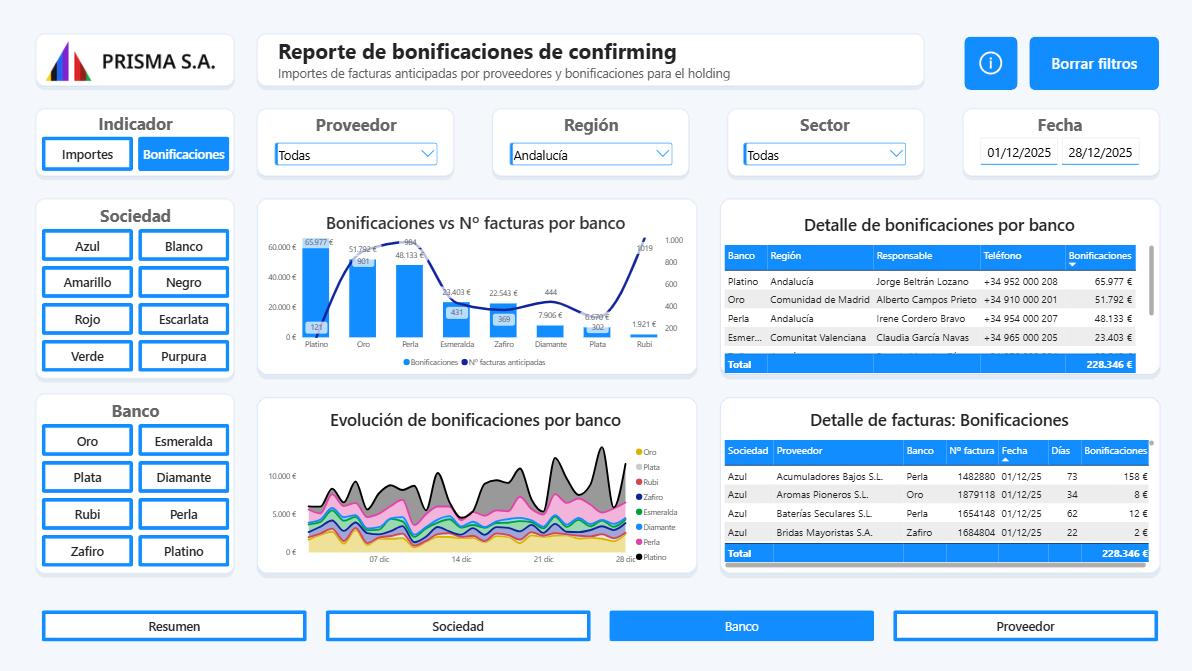

The page's visual inventory and layout, read from the dashboard file:
{"tool":"powerbi","page":{"name":"Banco","canvas":[1920,1080],"ordinal":2},"visuals":[{"type":"tableEx","fields":{"Values":["Banco.Nombre_Corto_Banco","CCAA_Banco.Comunidad Autónoma","bancos.Nombre_Contacto_Banco","bancos.Telefono_Contacto","Registro_Bonificaciones.Sel_Importes"]},"box":[1154,327,704,270],"z":0},{"type":"stackedAreaChart","fields":{"Category":["registro_bonificaciones.F. Anticipo"],"Series":["Banco.Nombre_Corto_Banco"],"Y":["Registro_Bonificaciones.Sel_Importes"]},"box":[412,640,704,270],"z":1000},{"type":"lineStackedColumnComboChart","fields":{"Category":["Banco.Nombre_Corto_Banco"],"Y":["Registro_Bonificaciones.Sel_Importes"],"Y2":["CountNonNull(registro_bonificaciones.Nº Factura)"]},"box":[412,324,704,270],"z":2000},{"type":"tableEx","fields":{"Values":["Sociedad.Nombre_Corto_Sociedad","proveedores.Nombre_Proveedor","Banco.Nombre_Corto_Banco","Count(registro_bonificaciones.Nº Factura)","registro_bonificaciones.F. Anticipo","Sum(registro_bonificaciones.Días)","Registro_Bonificaciones.Sel_Importes"]},"box":[1154,640,704,270],"z":3000},{"type":"advancedSlicerVisual","title":"Sociedad","fields":{"Values":["Sociedad.Nombre_Corto_Sociedad"]},"box":[70.5,328,300,270],"z":4000},{"type":"pageNavigator","box":[70,978,1786,50],"z":5000},{"type":"advancedSlicerVisual","title":"Banco","fields":{"Values":["Banco.Nombre_Corto_Banco"]},"box":[70.5,640,300,270],"z":6000},{"type":"image","box":[60.5,60,320,80],"z":7000},{"type":"shape","title":"Reporte de bonificaciones de confirming","box":[448,60,1030,80],"z":8000},{"type":"advancedSlicerVisual","title":"Indicador","fields":{"Values":["Selector.Selector"]},"box":[70.5,180,300,96],"z":9000},{"type":"slicer","title":"Proveedor","fields":{"Values":["proveedores.Nombre_Proveedor"]},"box":[438,182,270,100],"z":10000},{"type":"slicer","title":"Región","fields":{"Values":["CCAA_Proveedor.Comunidad Autónoma"]},"box":[814,182,270,100],"z":11000},{"type":"slicer","title":"Fecha","fields":{"Values":["registro_bonificaciones.F. Anticipo"]},"box":[1564,182,270,100],"z":12000},{"type":"slicer","title":"Sector","fields":{"Values":["Proveedor.Sector"]},"box":[1188,182,270,100],"z":13000},{"type":"shape","box":[1572.1,250.7,123.6,29.3],"z":14000},{"type":"shape","box":[1702.1,250.7,123.6,29.3],"z":15000},{"type":"actionButton","box":[1650,60,208,86],"z":16000},{"type":"actionButton","box":[1545.6,60,85.6,85.6],"z":17000}]}

Visuals, with their boxes in screenshot pixels (x1, y1, x2, y2), scaled from the page's 1920x1080 canvas onto the 1192x671 screenshot:
tableEx - Banco.Nombre_Corto_Banco x CCAA_Banco.Comunidad Autónoma: <region>716, 203, 1154, 371</region>
stackedAreaChart - registro_bonificaciones.F. Anticipo x Banco.Nombre_Corto_Banco: <region>256, 398, 693, 565</region>
lineStackedColumnComboChart - Banco.Nombre_Corto_Banco x Registro_Bonificaciones.Sel_Importes: <region>256, 201, 693, 369</region>
tableEx - Sociedad.Nombre_Corto_Sociedad x proveedores.Nombre_Proveedor: <region>716, 398, 1154, 565</region>
"Sociedad" advancedSlicerVisual: <region>44, 204, 230, 372</region>
pageNavigator: <region>43, 608, 1152, 639</region>
"Banco" advancedSlicerVisual: <region>44, 398, 230, 565</region>
image: <region>38, 37, 236, 87</region>
"Reporte de bonificaciones de confirming" shape: <region>278, 37, 918, 87</region>
"Indicador" advancedSlicerVisual: <region>44, 112, 230, 171</region>
"Proveedor" slicer: <region>272, 113, 440, 175</region>
"Región" slicer: <region>505, 113, 673, 175</region>
"Fecha" slicer: <region>971, 113, 1139, 175</region>
"Sector" slicer: <region>738, 113, 905, 175</region>
shape: <region>976, 156, 1053, 174</region>
shape: <region>1057, 156, 1133, 174</region>
actionButton: <region>1024, 37, 1154, 91</region>
actionButton: <region>960, 37, 1013, 90</region>
